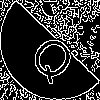Q: (25, 25, 85, 87)
